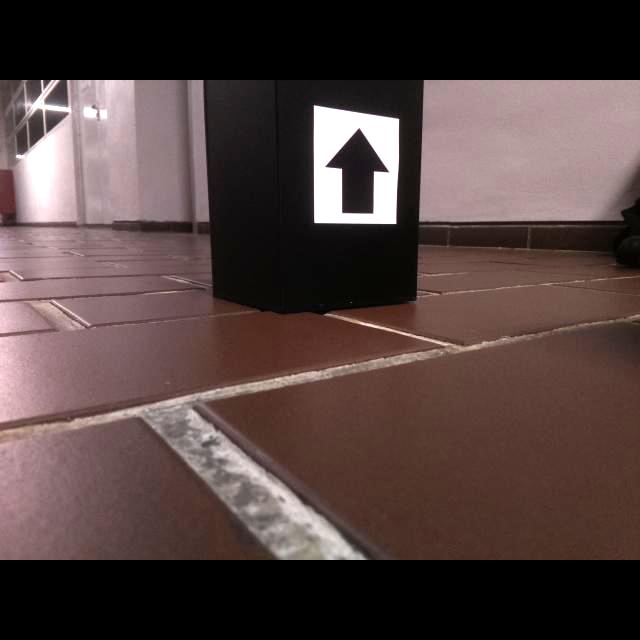UP: (323, 128, 390, 215)
